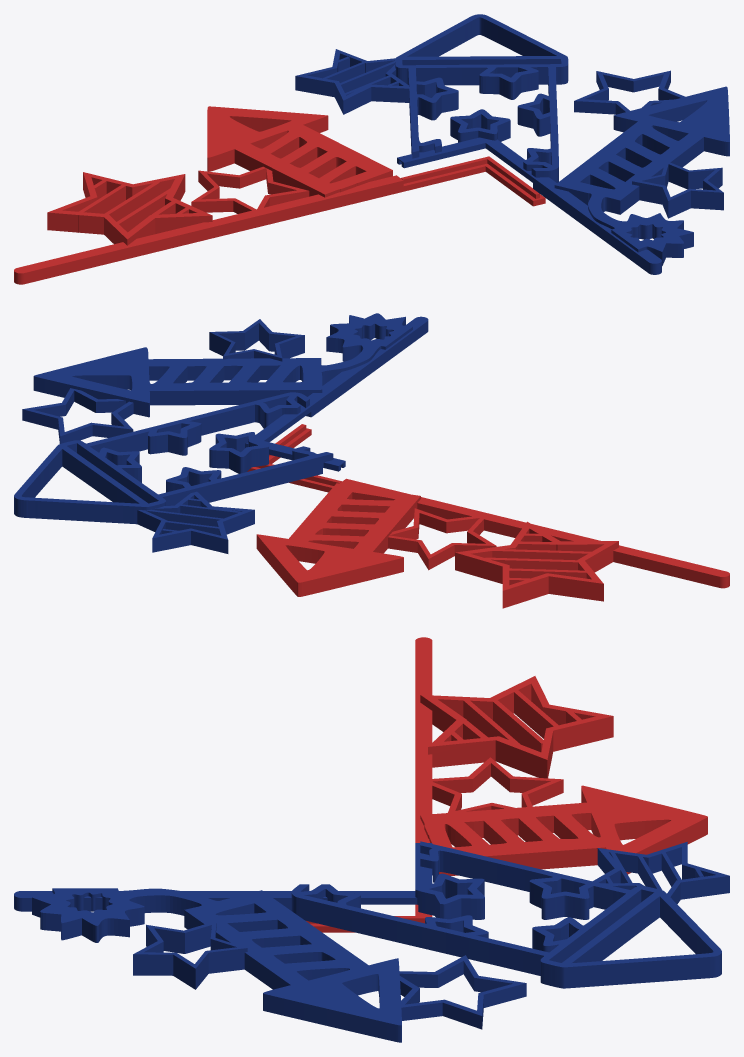
The model's file is fireworks-corner.glb.
3 renders of one model, top to bottom at view 1: azimuth 30°, elevation 25°; view 2: azimuth 150°, elevation 25°; view 3: azimuth 270°, elevation 25°, orthographic. The views are drawn at different scales.
Visible parts, largest first — view 1: 00-surprising_vihelmo_1; view 2: 00-surprising_vihelmo_1; view 3: 00-surprising_vihelmo_1.
Part boxes in pixels (x1,y1,x2,y2): 00-surprising_vihelmo_1: (14,14,729,284); 00-surprising_vihelmo_1: (14,313,729,608); 00-surprising_vihelmo_1: (14,637,729,1042).
Bounding box in the file's own units: 334 × 15.99 × 245.
